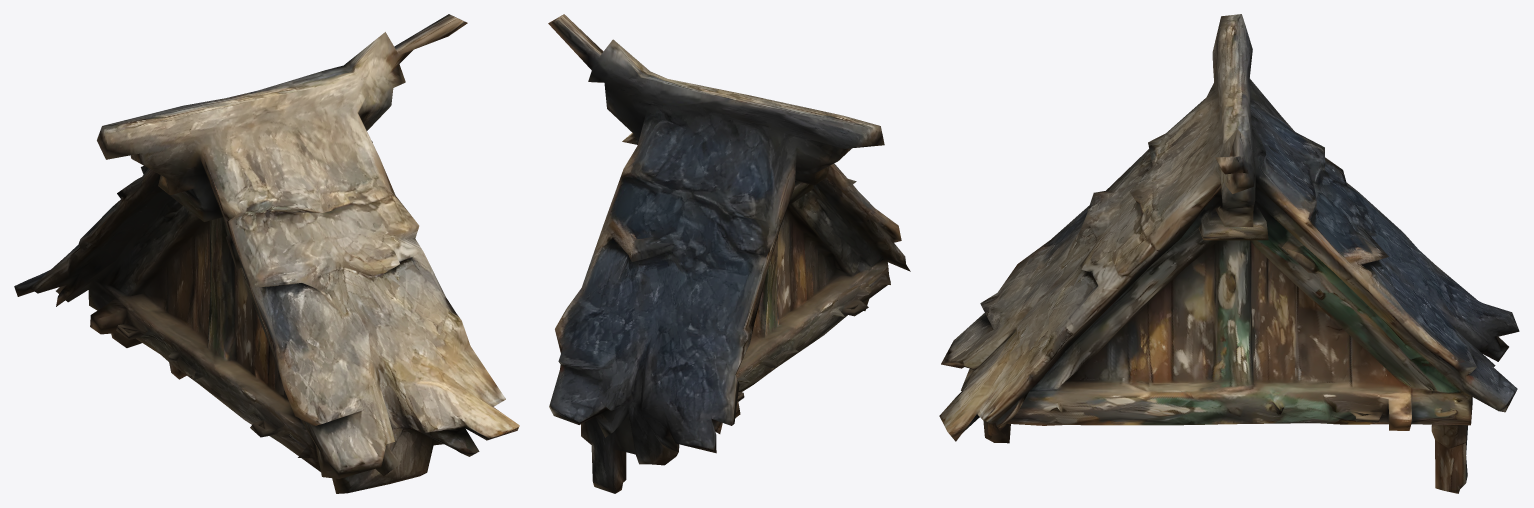
File: kh_gable.glb
3 views of the same model, side by side, from view 1: azimuth 30°, elevation 25°; view 2: azimuth 150°, elevation 25°; view 3: azimuth 270°, elevation 25° (orthographic). The views are drawn at different scales.
Parts seen in each view (by area): view 1: tripo_node_71df5274-0a2c-4958-a861-39f62c20bd6b; view 2: tripo_node_71df5274-0a2c-4958-a861-39f62c20bd6b; view 3: tripo_node_71df5274-0a2c-4958-a861-39f62c20bd6b.
Part boxes in pixels (x1,y1,x2,y2): tripo_node_71df5274-0a2c-4958-a861-39f62c20bd6b: (14, 14, 519, 493); tripo_node_71df5274-0a2c-4958-a861-39f62c20bd6b: (548, 14, 910, 493); tripo_node_71df5274-0a2c-4958-a861-39f62c20bd6b: (939, 14, 1519, 493).
Size of the model in its own units: 0.7595 by 0.7914 by 1.
Materials: 1 (1 with a texture image).
